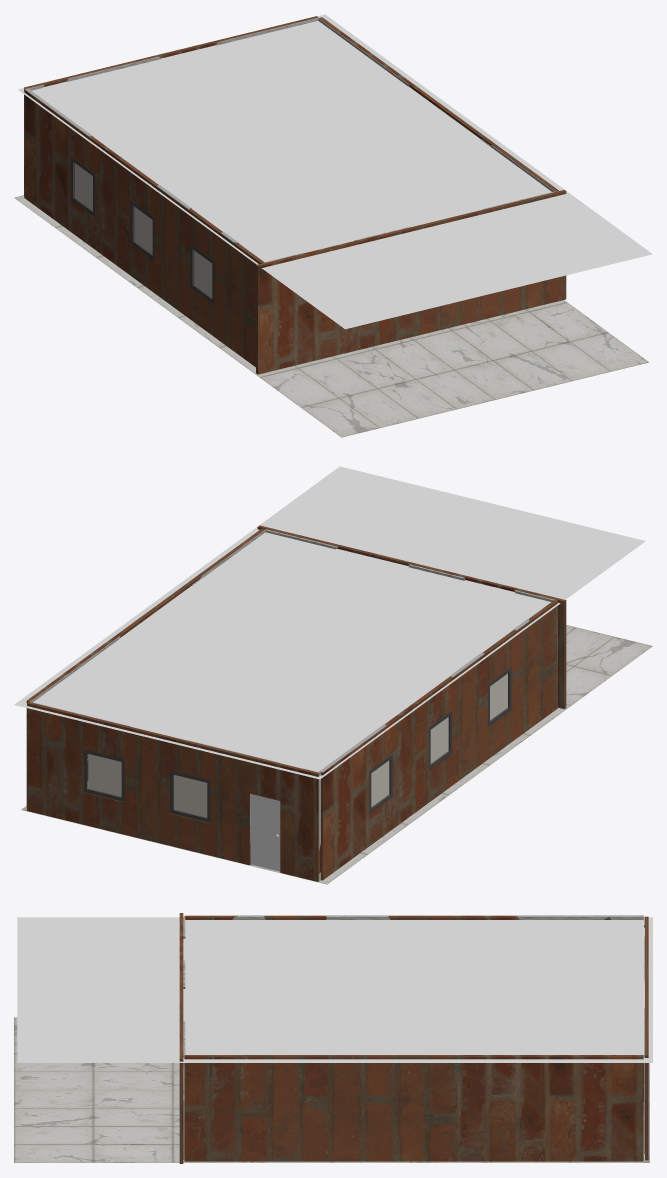
Rendered from Building_Damaged_01v06.fbx.
3 renders of one model, top to bottom at view 1: azimuth 30°, elevation 25°; view 2: azimuth 150°, elevation 25°; view 3: azimuth 270°, elevation 25°, orthographic. The views are drawn at different scales.
Visible parts, largest first — view 1: Celing, Floor, FrontLeftWall.001, BackLeftWall.002, FrontLeftWall, BackWall.001, BackWall.001_cell.099, WindowPane.003, WindowPane.004, WindowPane.002; view 2: Celing, BackWall.001, FrontLeftWall.001, Floor, Door, BackLeftWall.002, FrontLeftWall, WindowPane.001, WindowPane.005, WindowFrame.001, WindowFrame, WindowPane.002 (+3 smaller); view 3: Celing, FrontLeftWall, Floor, BackLeftWall.002, FrontLeftWall.001, FrontLeftWall.001_cell.147, BackWall.001, Cube_cell.
Boxes of the visible parts, x1,y1,x2,y2 form: Celing: [18, 14, 652, 329]; Floor: [14, 195, 648, 437]; FrontLeftWall.001: [24, 90, 264, 367]; BackLeftWall.002: [256, 190, 566, 374]; FrontLeftWall: [319, 17, 558, 191]; BackWall.001: [24, 16, 318, 188]; BackWall.001_cell.099: [24, 17, 318, 195]; WindowPane.003: [134, 207, 152, 253]; WindowPane.004: [194, 250, 212, 297]; WindowPane.002: [75, 163, 92, 210]; Celing: [14, 466, 645, 779]; BackWall.001: [27, 702, 319, 881]; FrontLeftWall.001: [319, 600, 557, 880]; Floor: [21, 625, 652, 884]; Door: [250, 794, 280, 871]; BackLeftWall.002: [257, 525, 566, 709]; FrontLeftWall: [26, 528, 264, 807]; WindowPane.001: [88, 754, 121, 796]; WindowPane.005: [174, 775, 207, 817]; WindowFrame.001: [83, 749, 124, 801]; WindowFrame: [169, 770, 210, 822]; WindowPane.002: [371, 760, 389, 807]; Celing: [17, 917, 652, 1062]; FrontLeftWall: [184, 1055, 643, 1161]; Floor: [14, 1017, 649, 1162]; BackLeftWall.002: [179, 913, 183, 1163]; FrontLeftWall.001: [184, 915, 643, 919]; FrontLeftWall.001_cell.147: [232, 915, 643, 919]; BackWall.001: [645, 916, 648, 1160]; Cube_cell: [183, 916, 185, 1159].
Size of the model in its own units: 909 by 307 by 1656.
